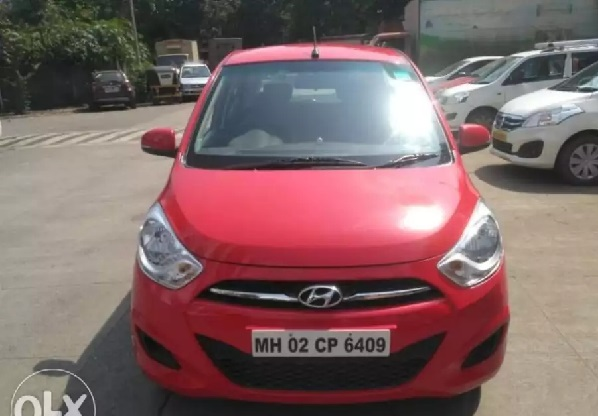licenseplate: (248, 326, 394, 364)
